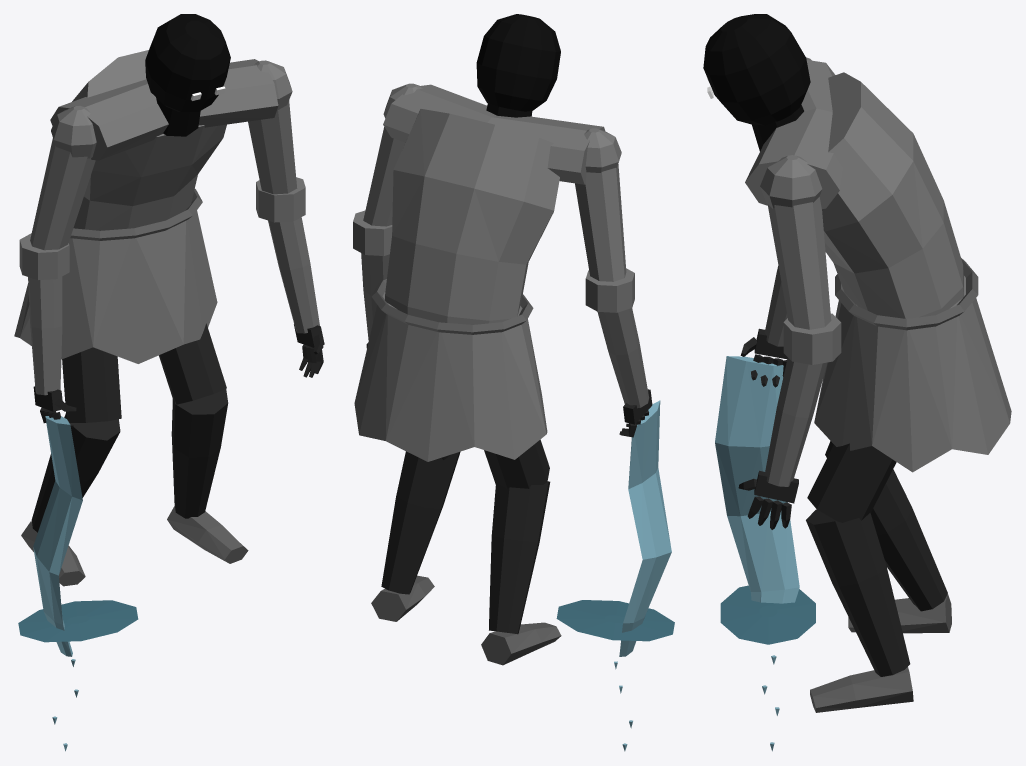
The model's file is SM_Char_ragman.fbx.
3 renders of one model, left to right at view 1: azimuth 30°, elevation 25°; view 2: azimuth 150°, elevation 25°; view 3: azimuth 270°, elevation 25°, orthographic. The views are drawn at different scales.
Visible parts, largest first — view 1: SM_Char_ragman; view 2: SM_Char_ragman; view 3: SM_Char_ragman.
Boxes of the visible parts, x1,y1,x2,y2 form: SM_Char_ragman: (14,14,324,751); SM_Char_ragman: (353,14,674,751); SM_Char_ragman: (703,14,1011,751).
Bounding box in the file's own units: 0.8158 × 1.83 × 0.641.
